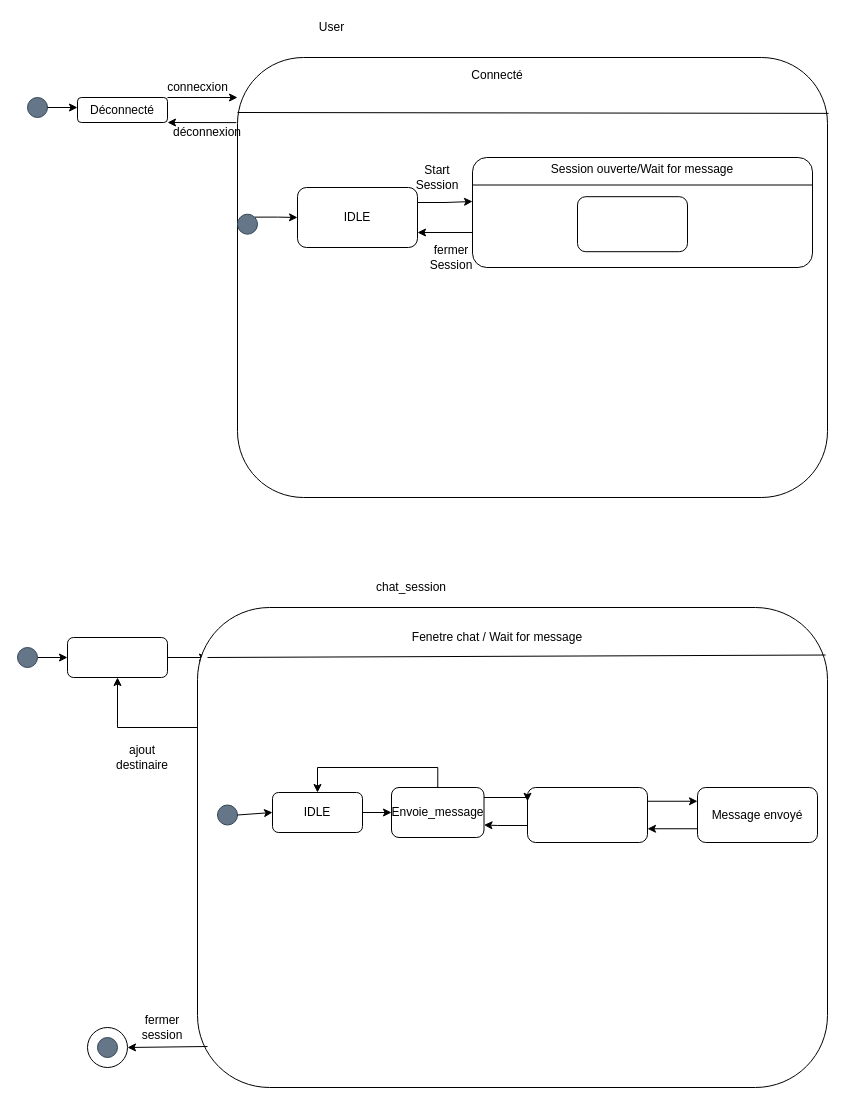
The diagram is 848 pixels wide and 1105 high, and some of its shapes have lost their labels. The shapes that lost their labels are listed below. From the top down, each one's centre as x and y in pixels, then its label:
At [632,224]: "Envoyer_message".
At [117,657]: "list user presente".
At [587,814]: "Traiter Message".
